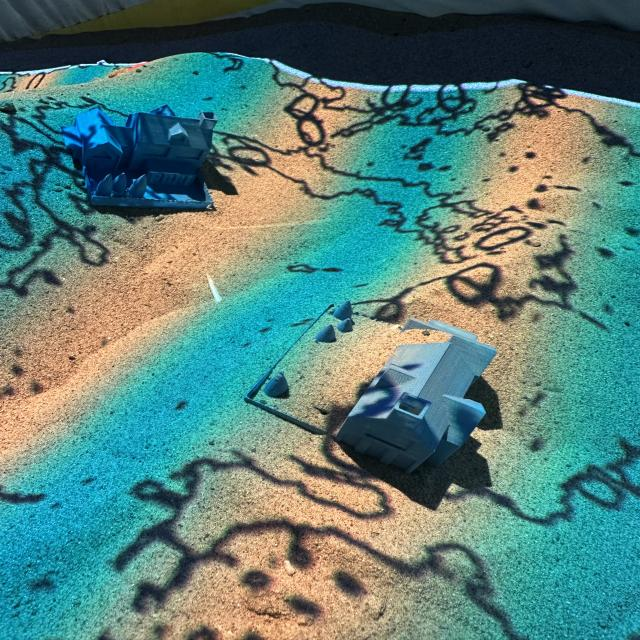house: (333, 317, 499, 474), (61, 104, 218, 210)
